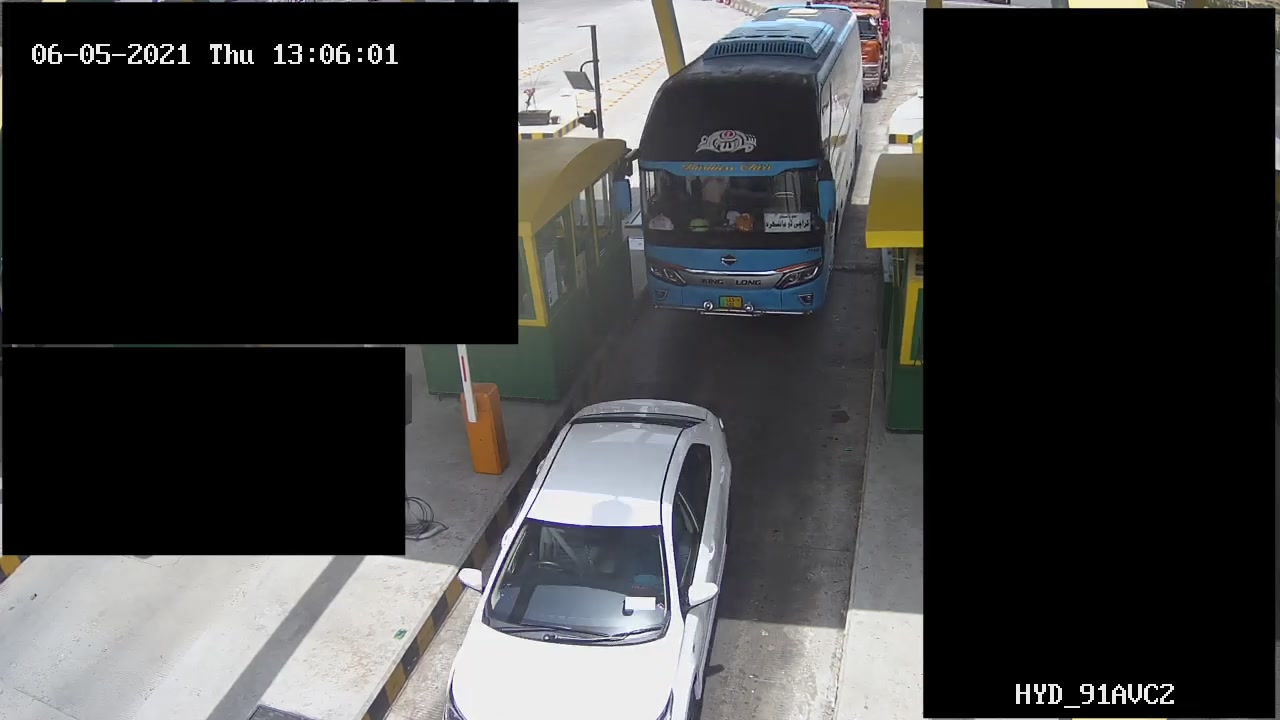F4: (626, 1, 866, 330)
